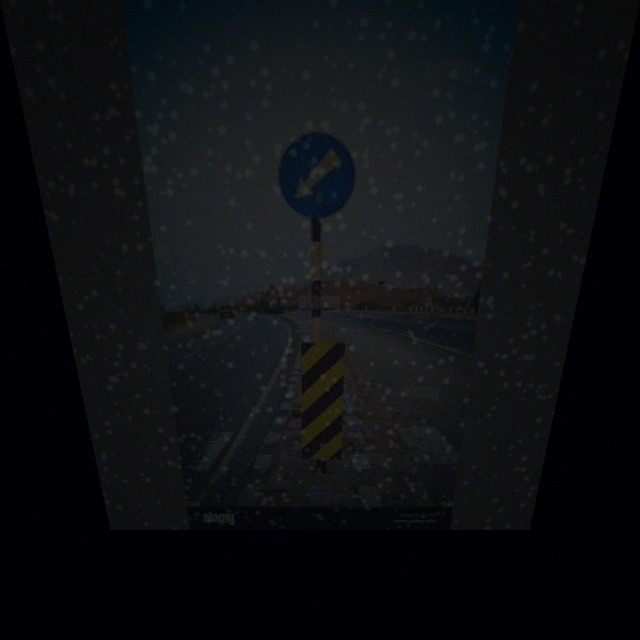Compulsory_Keep_Left: (274, 130, 367, 222)
